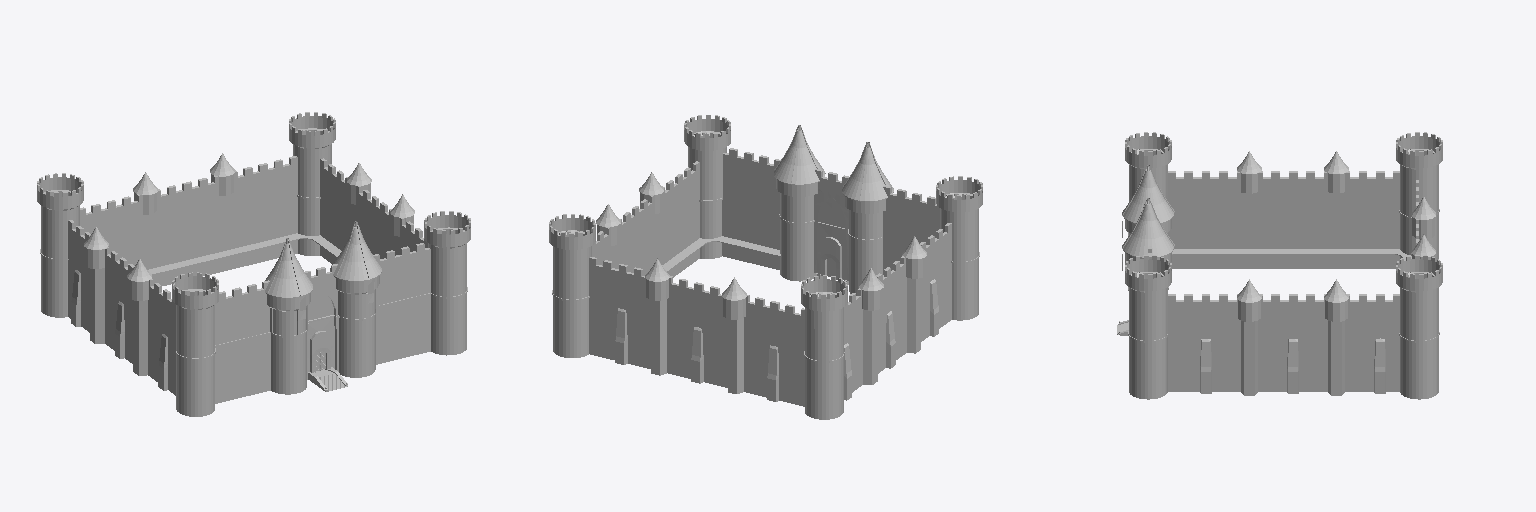
Rendered from darkcastle.obj.
The picture shows the model from 3 angles: view 1: azimuth 30°, elevation 25°; view 2: azimuth 150°, elevation 25°; view 3: azimuth 270°, elevation 25°; orthographic projection.
Parts seen in each view (by area): view 1: Castle_Catle; view 2: Castle_Catle; view 3: Castle_Catle.
Boxes of the visible parts, box(x1,y1,x2,y2) form: Castle_Catle: box(37, 112, 470, 416); Castle_Catle: box(549, 115, 982, 419); Castle_Catle: box(1117, 132, 1442, 399).
Size of the model in its own units: 234 by 113 by 226.